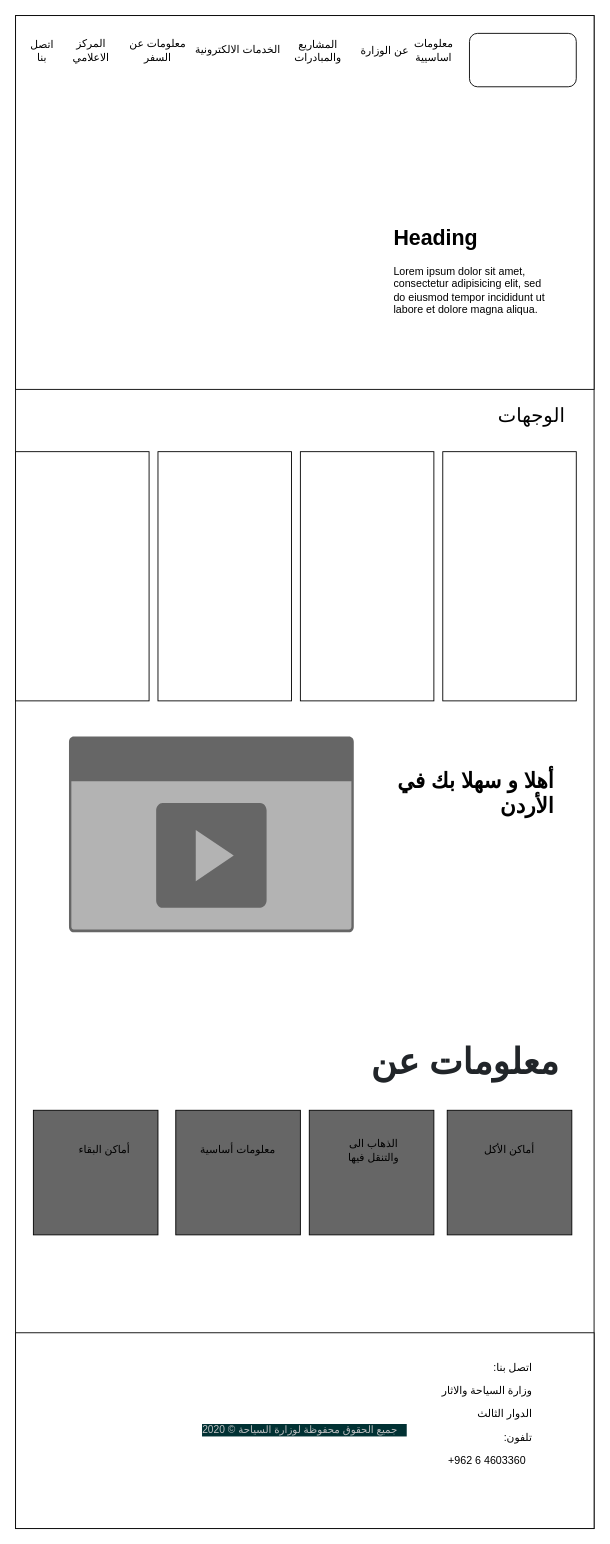
Some shapes in this 610 by 1544 pixel diagram are drawn without their labels. The shapes that lost their labels are listed below. From the top down, each one's centre as x and y in pixels, then its label:
At [522,59]: "Logo وزارة السياحة والاثار".
At [211,834]: "Video".
